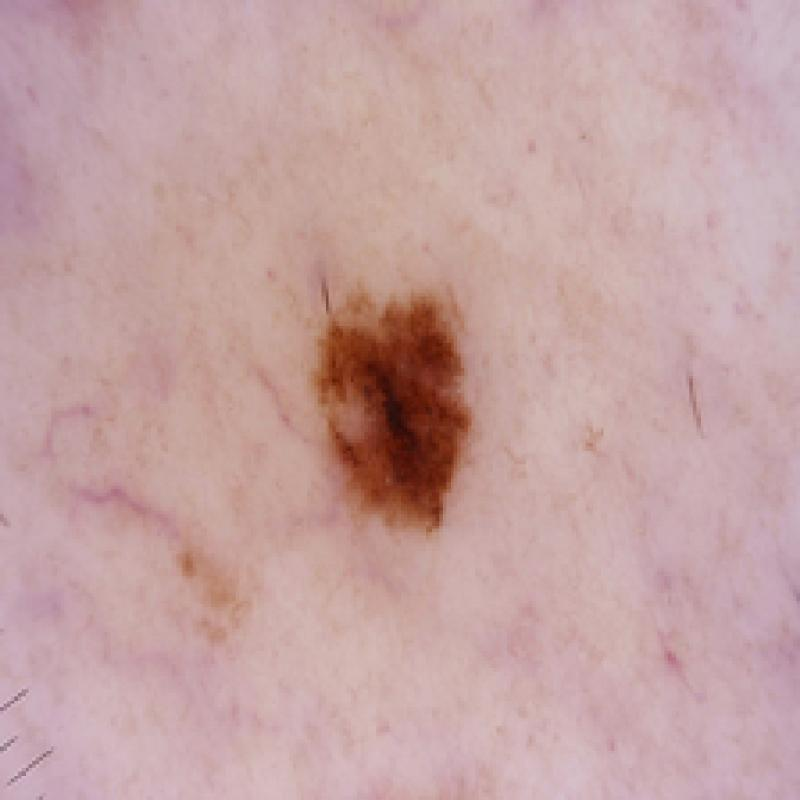benign: (280, 257, 516, 556)
